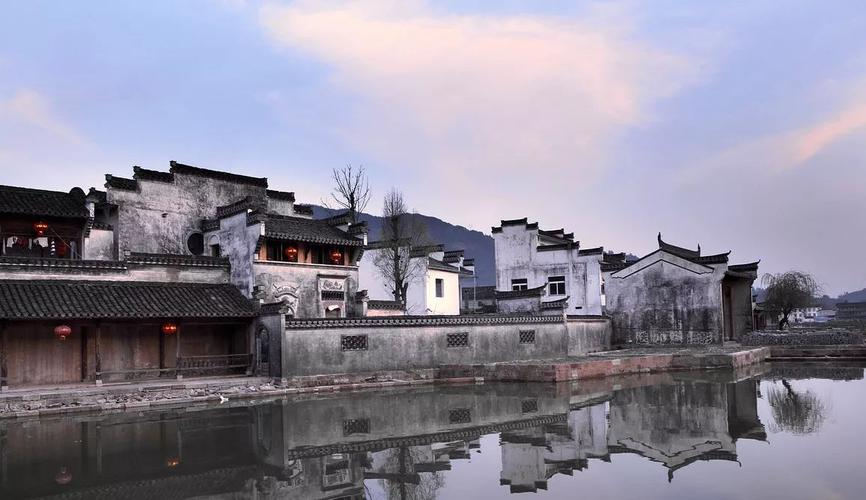buildings: (90, 165, 748, 453), (50, 157, 284, 286)
